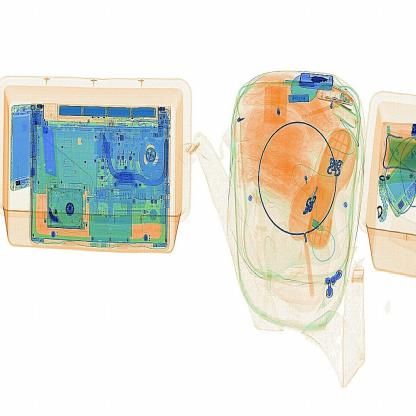pliers: (37, 115, 69, 206)
